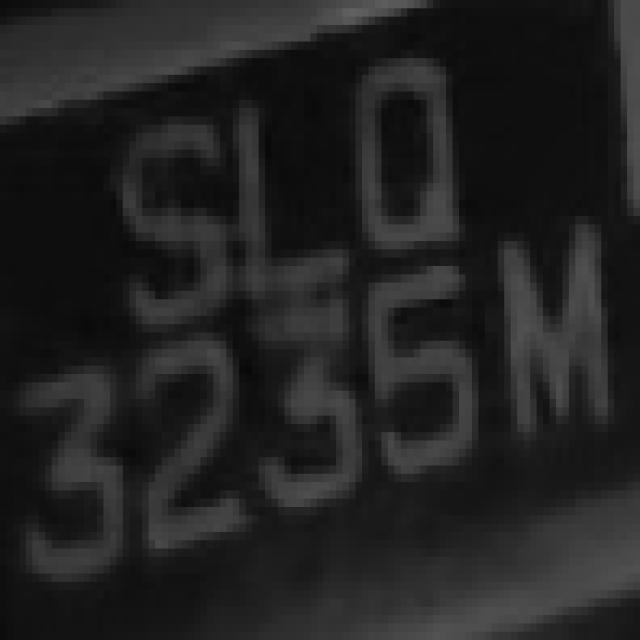2: (123, 332, 265, 574)
3: (239, 291, 375, 532), (6, 349, 130, 582)
5: (368, 257, 498, 498)
L: (239, 50, 356, 291)
M: (492, 200, 634, 466)
Q: (349, 33, 485, 266)
S: (90, 75, 246, 332)
